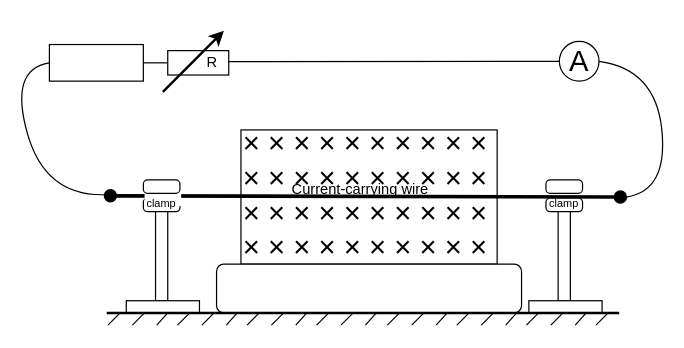
Some shapes in this 684 by 348 pixel diagram are drawn without their labels. Each missing label, with the box of its shape:
Power Supply: (48, 43, 143, 81)
Top-pan balance: (215, 263, 522, 313)
